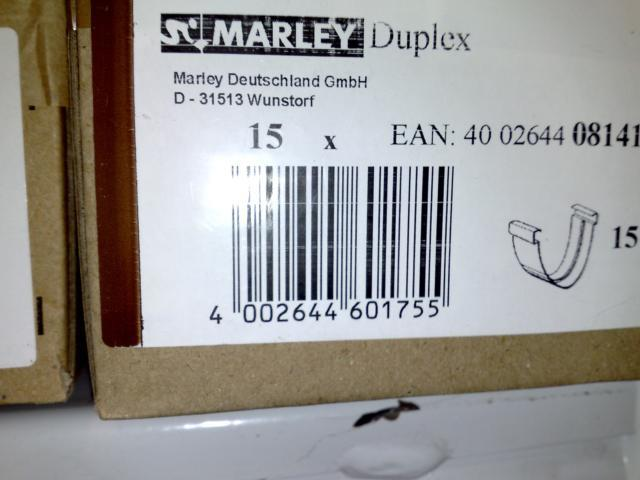Barkod: (226, 161, 454, 302)
